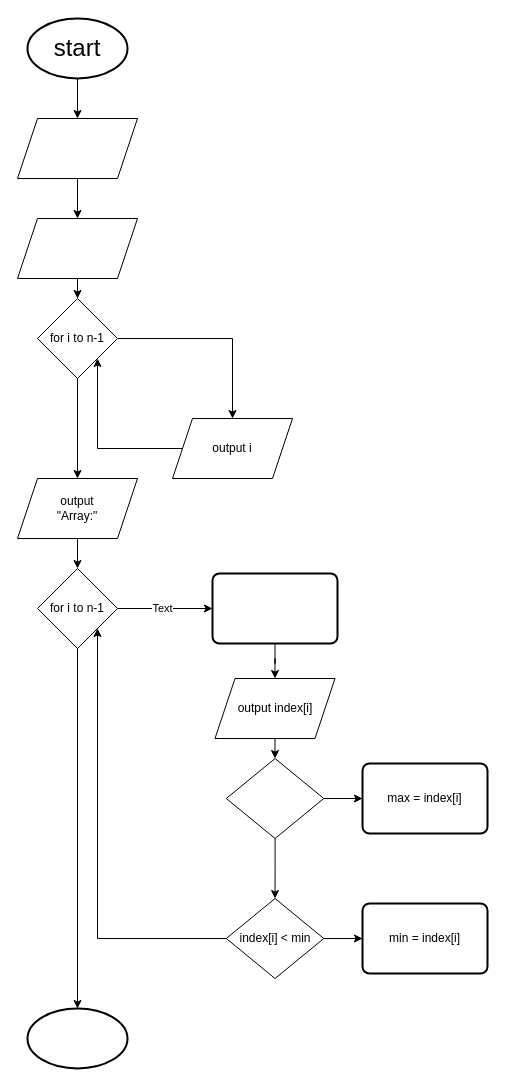
This 506x1086 diagram has some shape labels left out. The shapes that lost their labels are listed below. From the top down, each one's centre as x and y in pixels, then its label:
[77,148]: input n
[77,248]: output "index:"
[274,608]: index[i] = random(99) + 1
[274,798]: index[i] > max
[77,1038]: end
